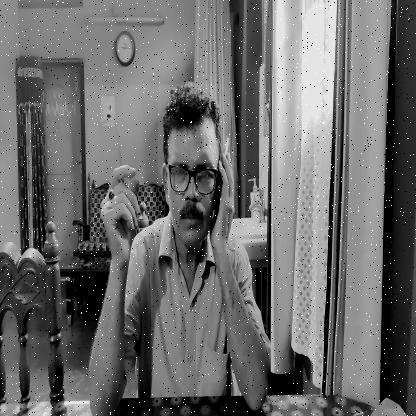Normal: (158, 84, 222, 253)
